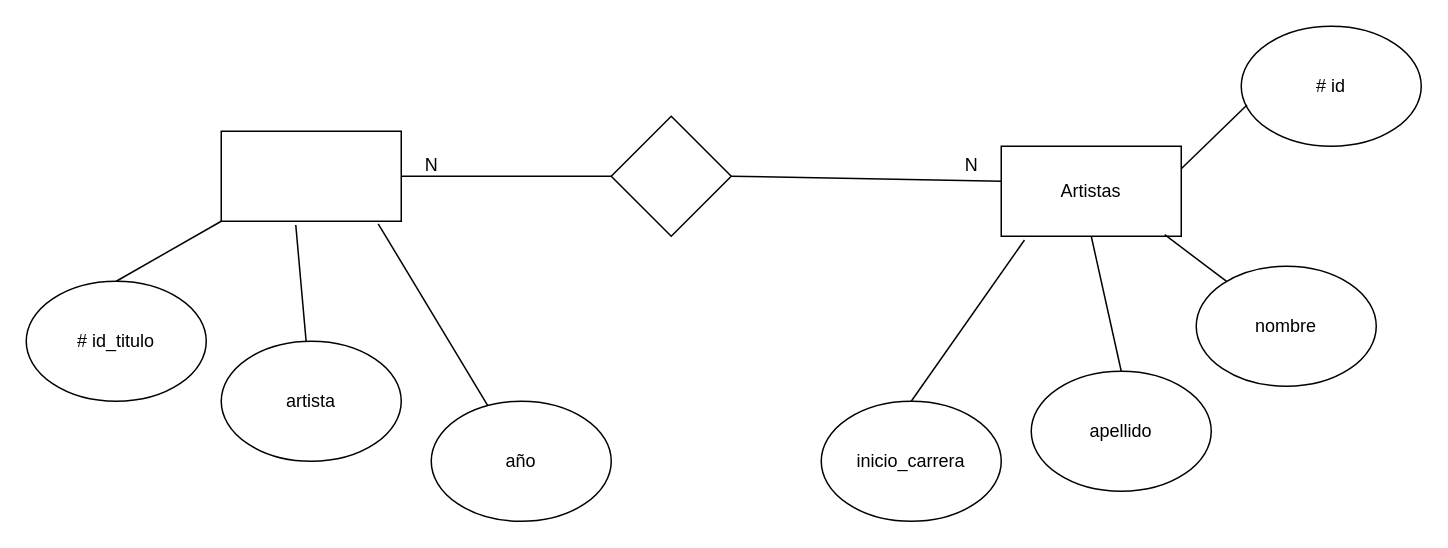
The diagram is 1448 pixels wide and 548 high, and some of its shapes have lost their labels. The centre of each missing label's shape, as x and y in pixels:
"contiene" belongs at point 670,175.
"Disco" belongs at point 310,175.
